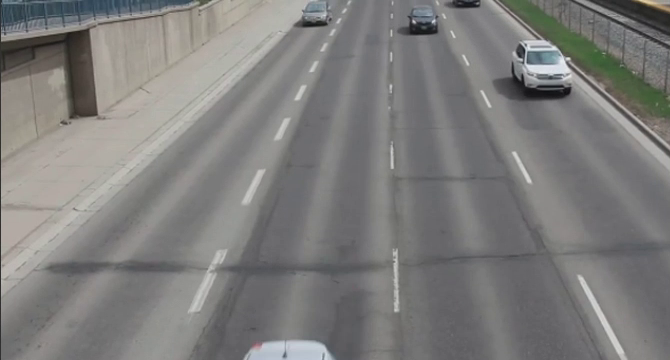car: (507, 38, 580, 102), (404, 5, 442, 34), (294, 1, 339, 24)
